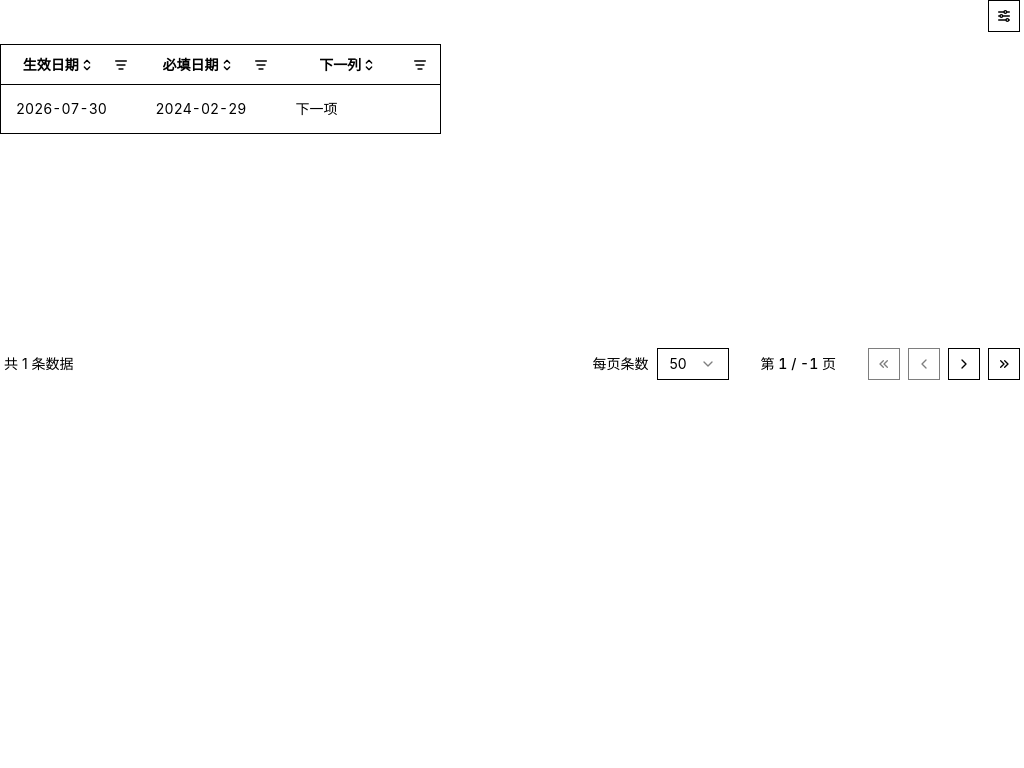
Test: DataTableEditableDateCell › opens a full-width Calendar immediately without rendering a text input
Double-click the cell "2026-07-30" at (70, 109), box x1=0 y1=85 x2=140 y2=133
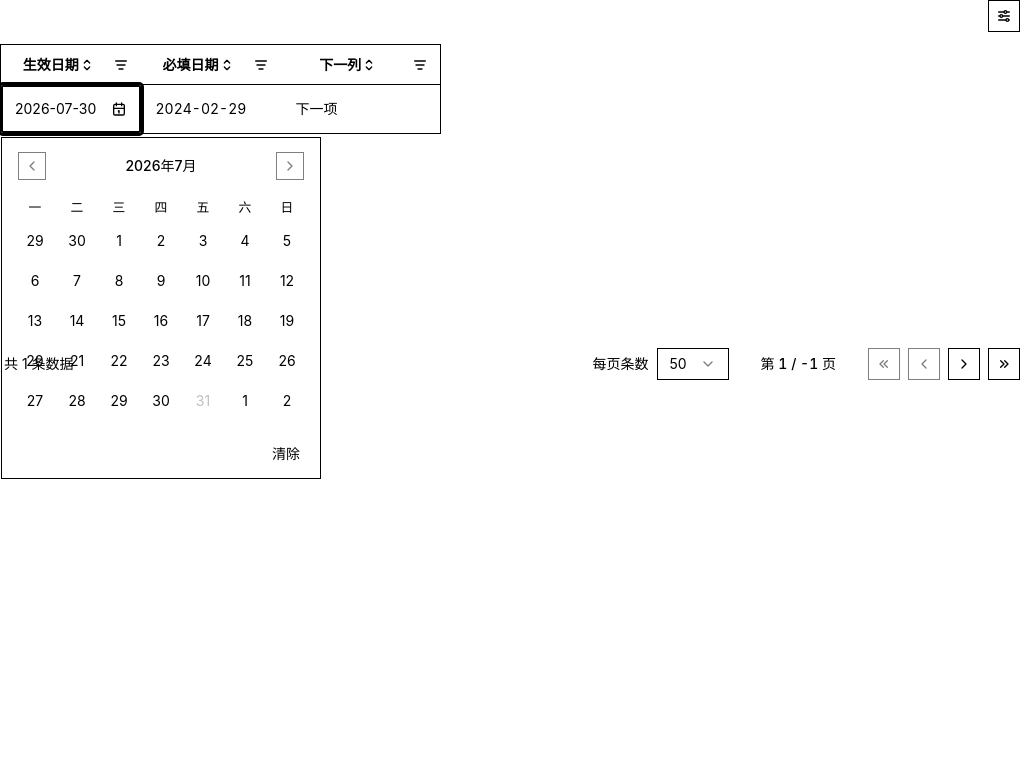
Result: the row "一 二 三 四 五 六 日" is shown at x1=14 y1=198 x2=308 y2=217
Result: the 2nd button "30" is shown at x1=145 y1=385 x2=177 y2=417
